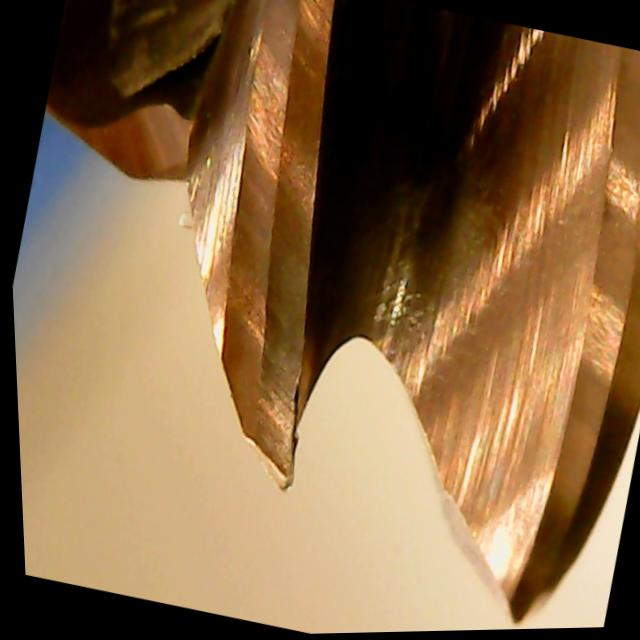Tool-wear-class-1: (166, 232, 368, 506)
